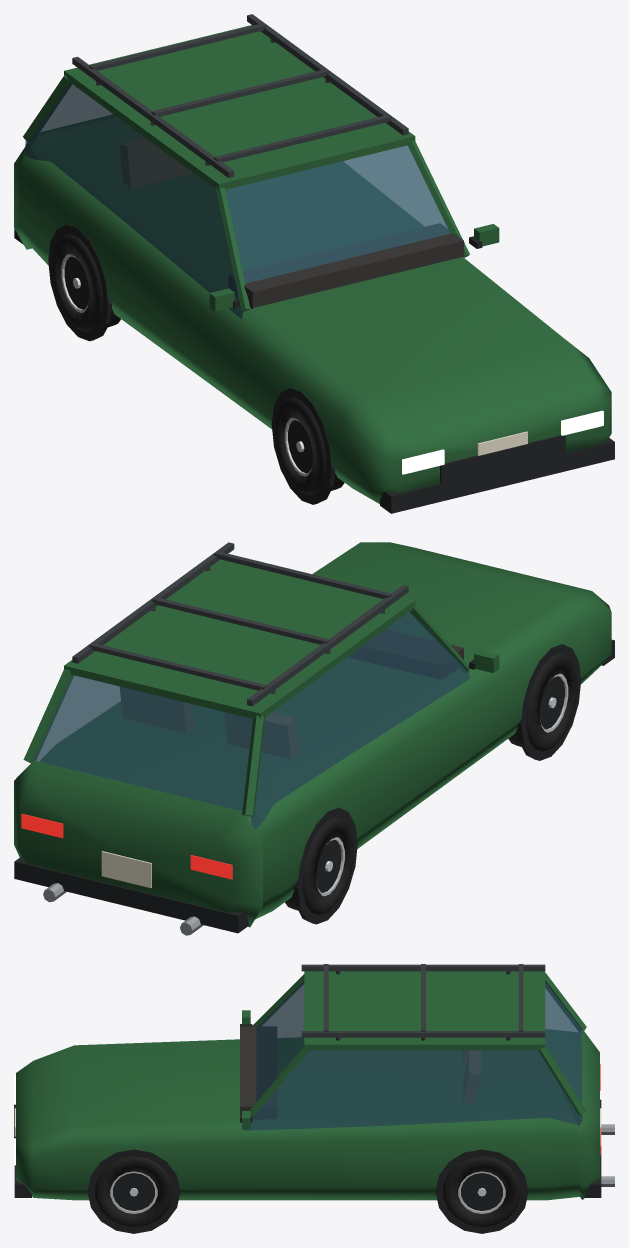
The model's file is pine-wagon.glb.
The picture shows the model from 3 angles, top to bottom: view 1: azimuth 30°, elevation 25°; view 2: azimuth 150°, elevation 25°; view 3: azimuth 270°, elevation 25°; orthographic projection. The views are drawn at different scales.
Parts seen in each view (by area): view 1: body, wheel_FR, wheel_RR, headlight_R, headlight_L, plate_F; view 2: body, wheel_RR, wheel_FR, plate_R, taillight_L, taillight_R; view 3: body, wheel_FL, wheel_RL.
Part boxes in pixels (box(x1,y1,x2,y2)): body: box(14, 14, 614, 513); wheel_FR: box(275, 397, 344, 495); wheel_RR: box(51, 234, 120, 331); headlight_R: box(402, 449, 444, 474); headlight_L: box(561, 410, 603, 435); plate_F: box(477, 431, 527, 455); body: box(14, 542, 614, 933); wheel_RR: box(285, 817, 354, 915); wheel_FR: box(508, 653, 577, 751); plate_R: box(101, 851, 151, 887); taillight_L: box(21, 813, 63, 838); taillight_R: box(190, 855, 232, 879); body: box(14, 964, 601, 1233); wheel_FL: box(95, 1156, 172, 1227); wheel_RL: box(443, 1156, 520, 1227).
Bounding box in the file's own units: 2.05 × 1.68 × 4.83.
